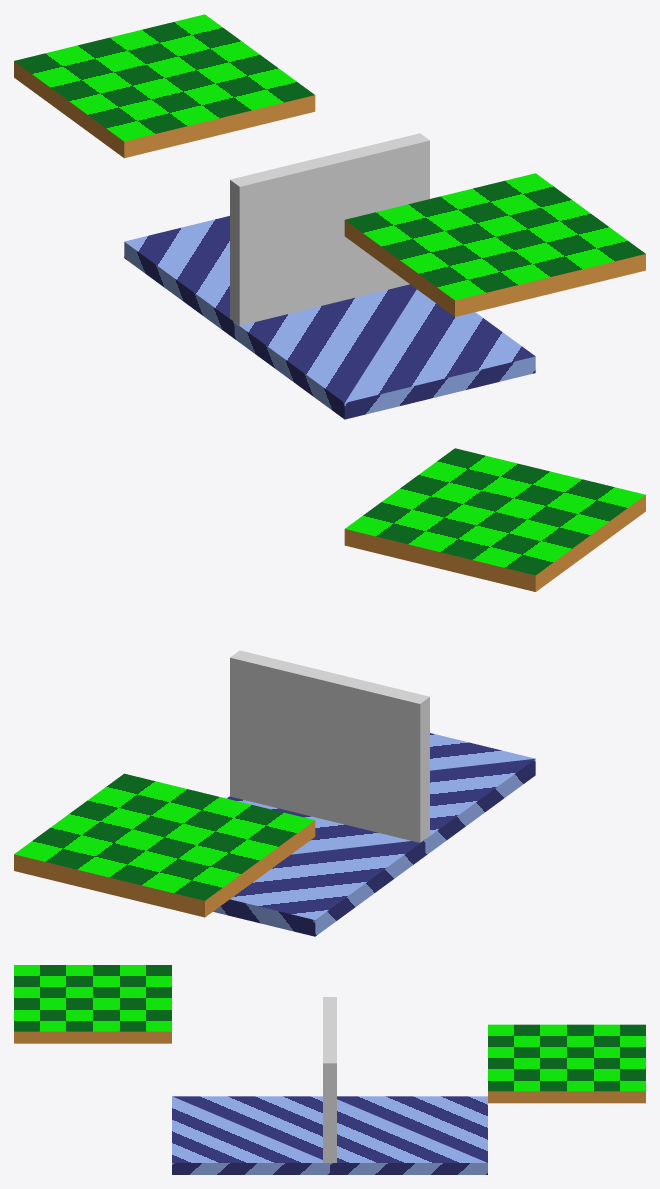
File: bounce-over.glb
3 views of the same model, one above another, from view 1: azimuth 30°, elevation 25°; view 2: azimuth 150°, elevation 25°; view 3: azimuth 270°, elevation 25° (orthographic). The views are drawn at different scales.
Visible parts, largest first — view 1: Cube, Cube.003, Cube.004, Cube.001, Cube.002; view 2: Cube.004, Cube, Cube.003, Cube.002, Cube.001; view 3: Cube.003, Cube, Cube.001, Cube.002, Cube.004.
Part boxes in pixels (x1,y1,x2,y2): Cube: (344, 173, 645, 316); Cube.003: (14, 14, 315, 158); Cube.004: (230, 133, 429, 325); Cube.001: (234, 284, 535, 419); Cube.002: (124, 216, 234, 338); Cube.004: (230, 650, 429, 842); Cube: (344, 448, 645, 591); Cube.003: (14, 773, 315, 917); Cube.002: (213, 796, 425, 936); Cube.001: (425, 733, 535, 855); Cube.003: (488, 1024, 645, 1103); Cube: (14, 965, 171, 1043); Cube.001: (172, 1096, 329, 1174); Cube.002: (330, 1096, 487, 1174); Cube.004: (323, 997, 336, 1162).
Size of the model in its own units: 12 by 12 by 48.
3 materials, 3 textured.
